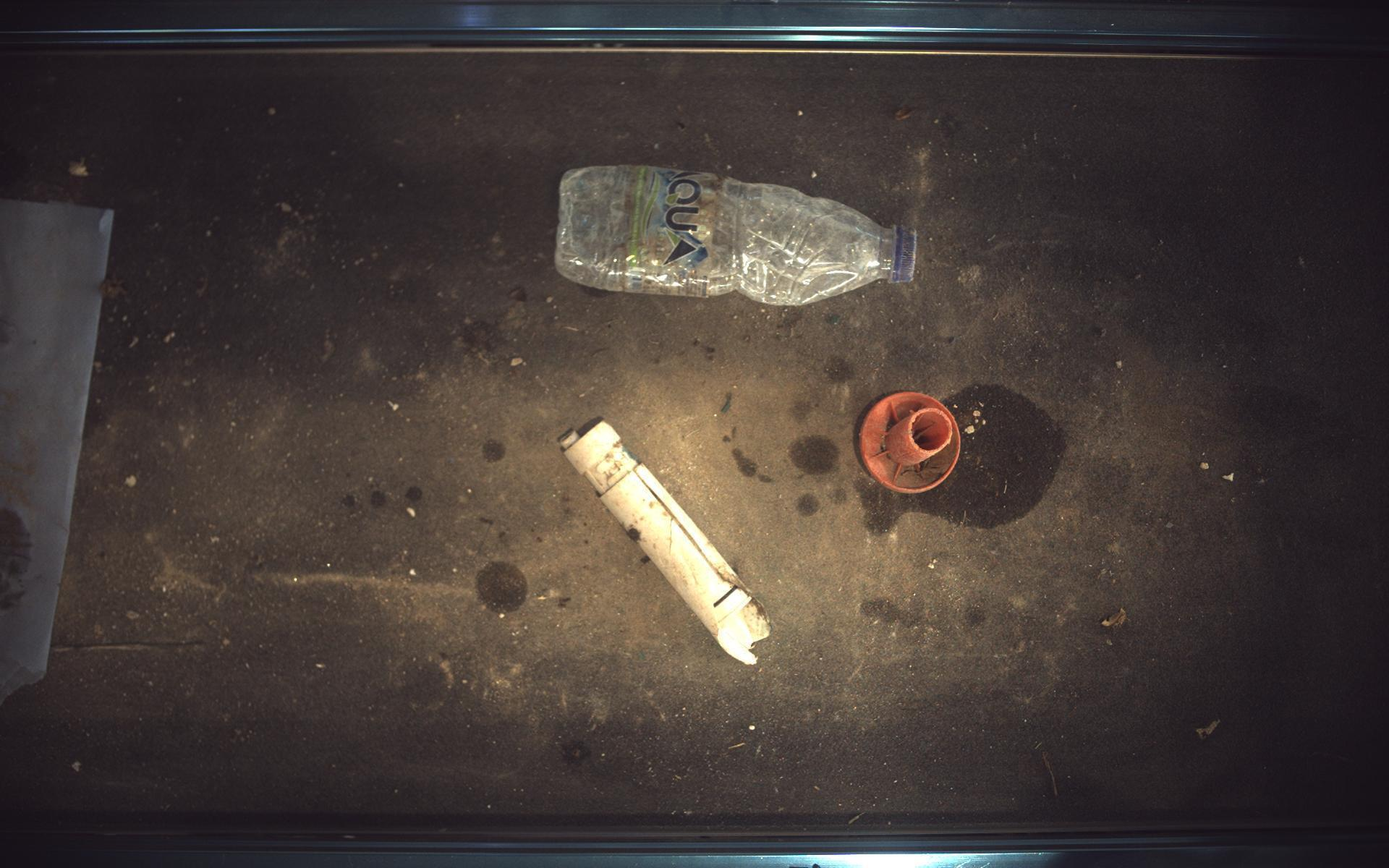general_w: (556, 165, 917, 305)
plastic: (558, 417, 771, 665), (862, 392, 962, 493)
